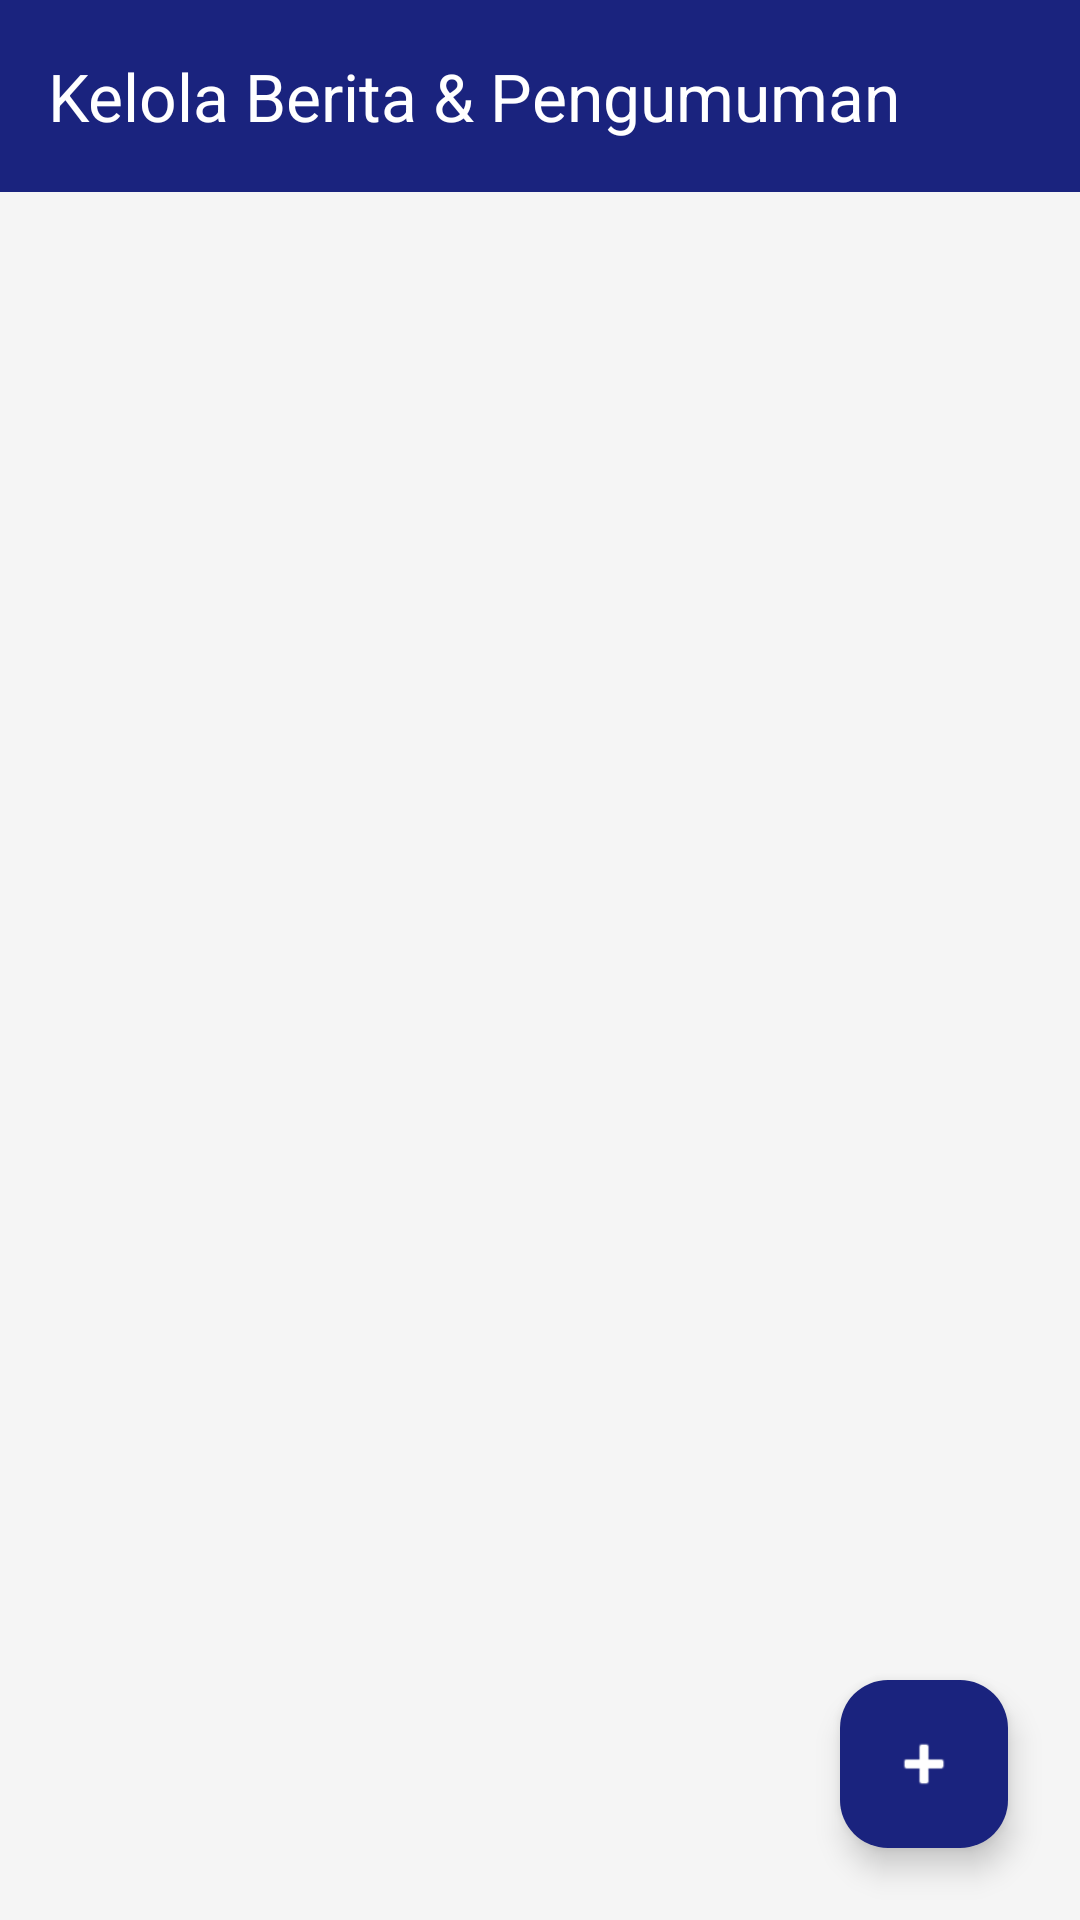

Where icons sit on this 1080w x 1920h app screen, as [left=x1, top=y1, right=x2, bottom=y2]:
Tambah Berita Baru: [left=840, top=1680, right=1008, bottom=1848]
